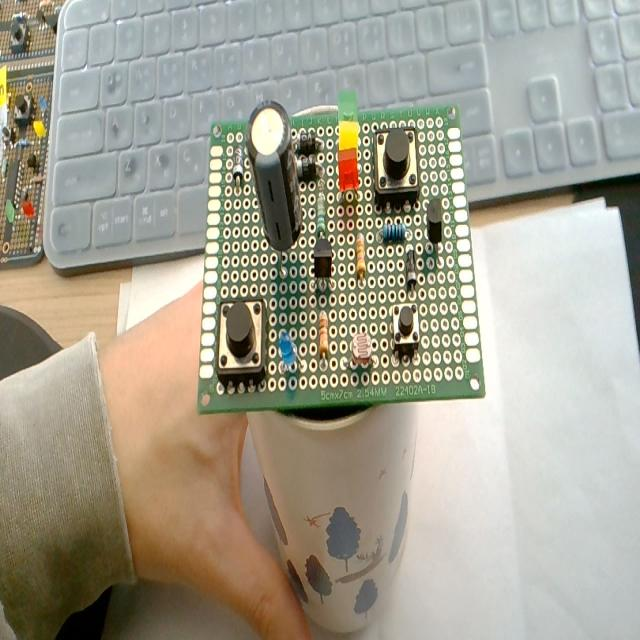Electrolytic capacitor: (244, 98, 302, 274)
cds: (342, 326, 380, 372)
diode: (225, 140, 247, 192), (406, 240, 420, 307), (292, 128, 326, 152), (294, 158, 328, 182)
led: (333, 145, 362, 204), (278, 329, 305, 381), (333, 120, 363, 151), (333, 91, 361, 122)
resistor: (352, 230, 367, 286), (374, 222, 414, 242), (318, 309, 330, 372), (316, 185, 327, 242)
switch: (213, 292, 270, 386), (370, 123, 422, 207), (389, 302, 420, 355)
transistor: (424, 196, 446, 276), (310, 239, 334, 296)
